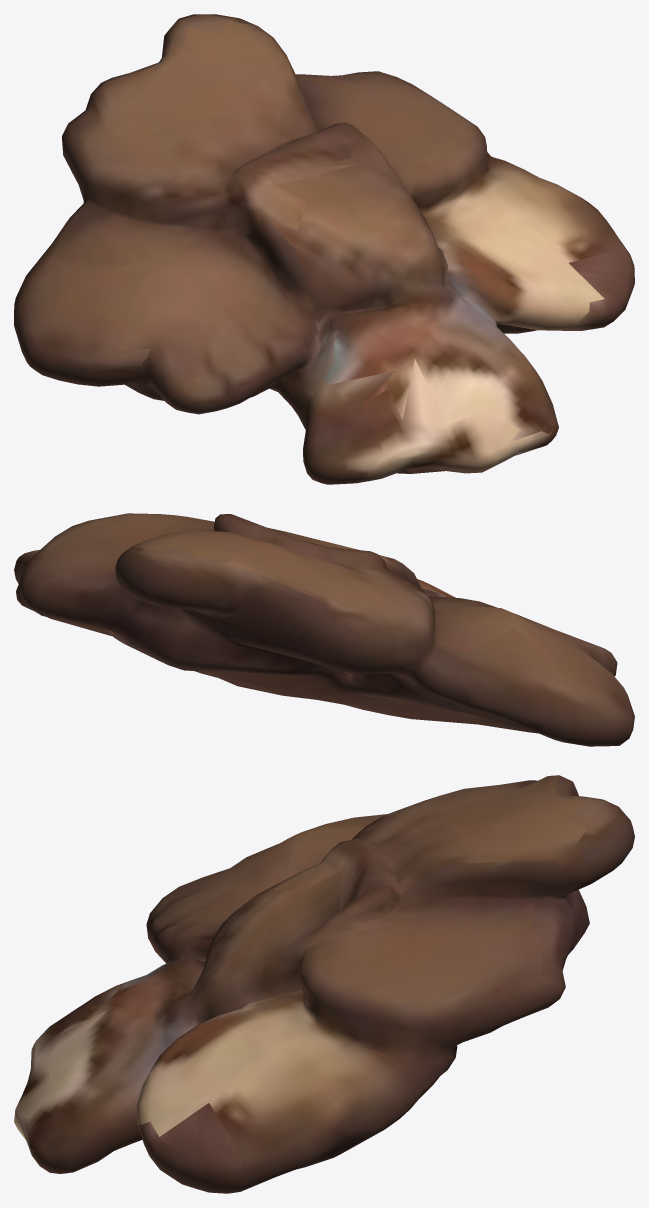
The model's file is v09_monte_folhas.glb.
3 renders of one model, top to bottom at view 1: azimuth 30°, elevation 25°; view 2: azimuth 150°, elevation 25°; view 3: azimuth 270°, elevation 25°, orthographic. The views are drawn at different scales.
Visible parts, largest first — view 1: v09_monte_folhas; view 2: v09_monte_folhas; view 3: v09_monte_folhas.
Part boxes in pixels (x1=…): v09_monte_folhas: x1=14, y1=14, x2=634, y2=484; v09_monte_folhas: x1=14, y1=513, x2=634, y2=746; v09_monte_folhas: x1=14, y1=775, x2=634, y2=1193.
Bounding box in the file's own units: 0.5217 × 0.247 × 0.4386.
1 material, 1 textured.
